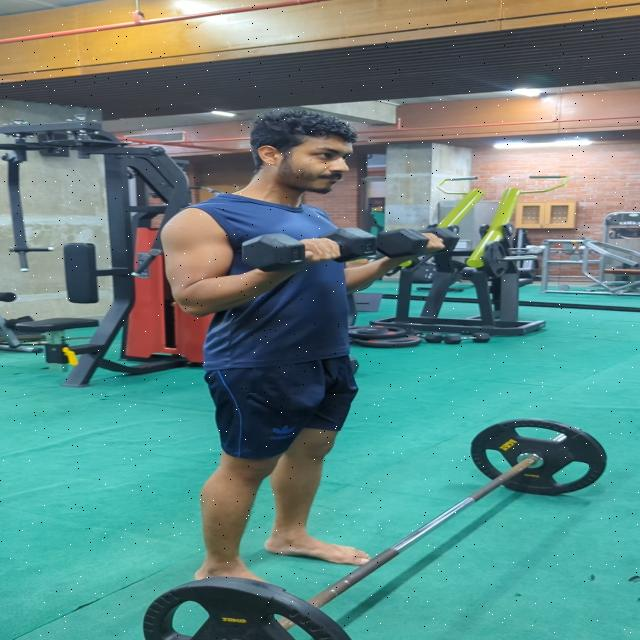Normal_DumbbellBicepCurls: (156, 105, 441, 599)
